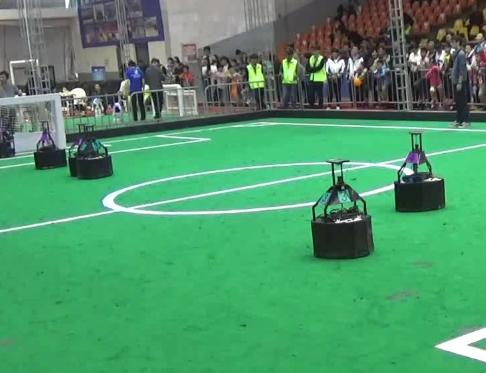robot: (303, 158, 378, 259), (390, 127, 451, 213), (72, 122, 116, 179), (29, 118, 67, 170)
